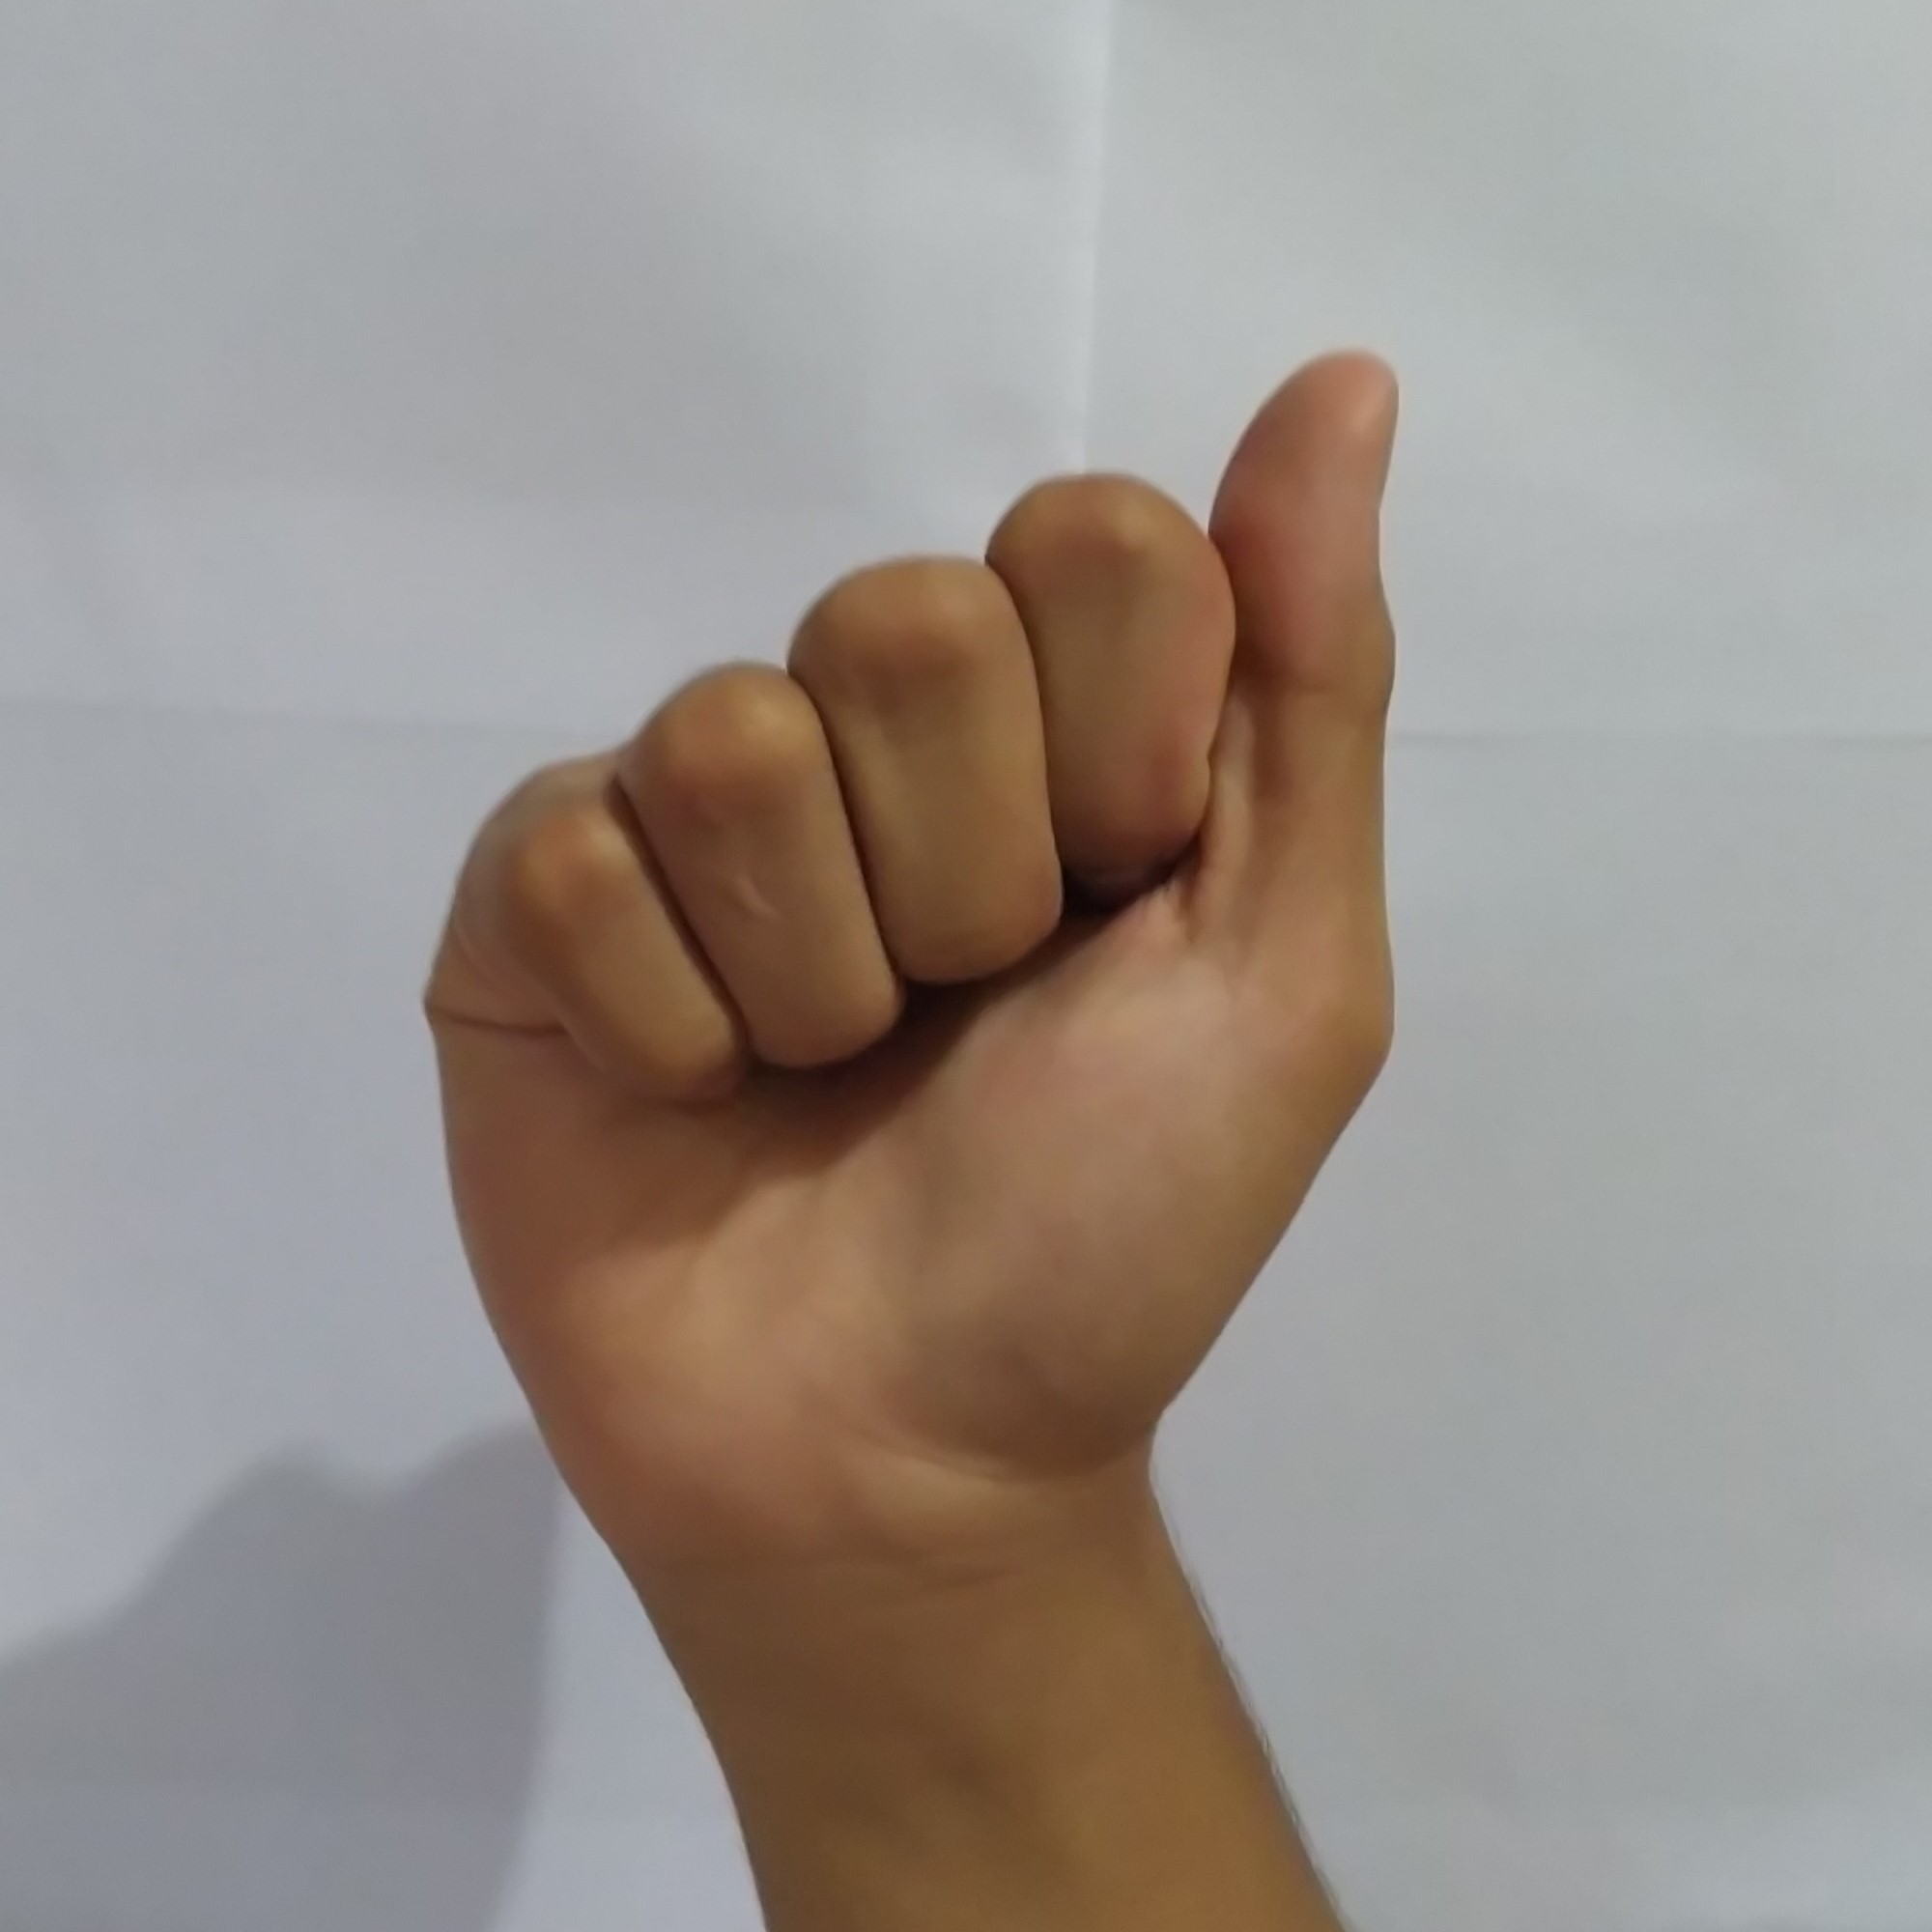A: (400, 333, 1430, 1541)
